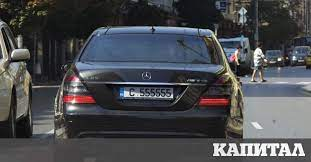registration_plate: (118, 85, 175, 101)
